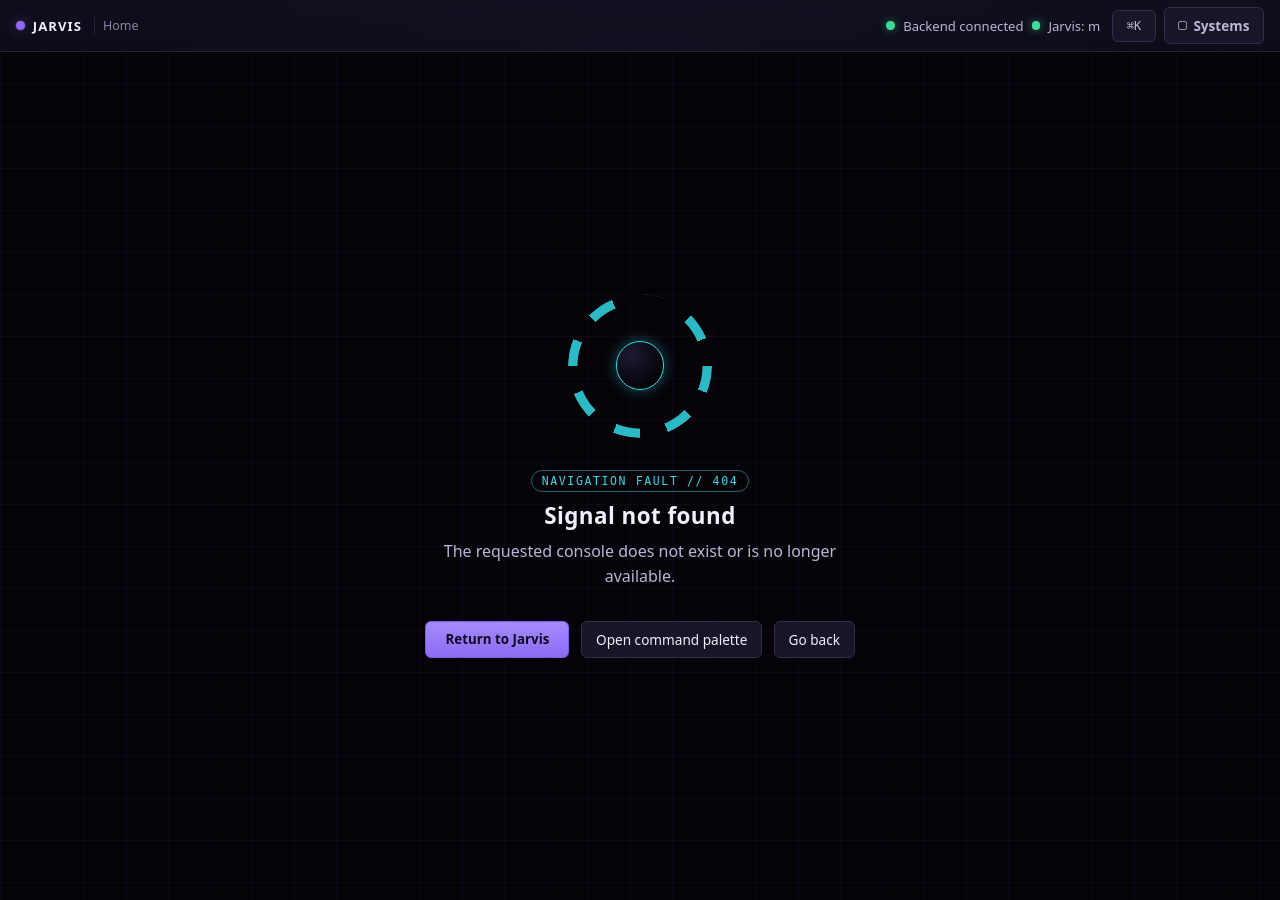
Unknown route (404) › returns to the real Home screen without a reload
The image size is (1280, 900).
Check: the heading "Signal not found" is shown, box [544,500,736,531]
Click the button "Return to Jarvis".
click(497, 640)  # box [425,621,569,658]
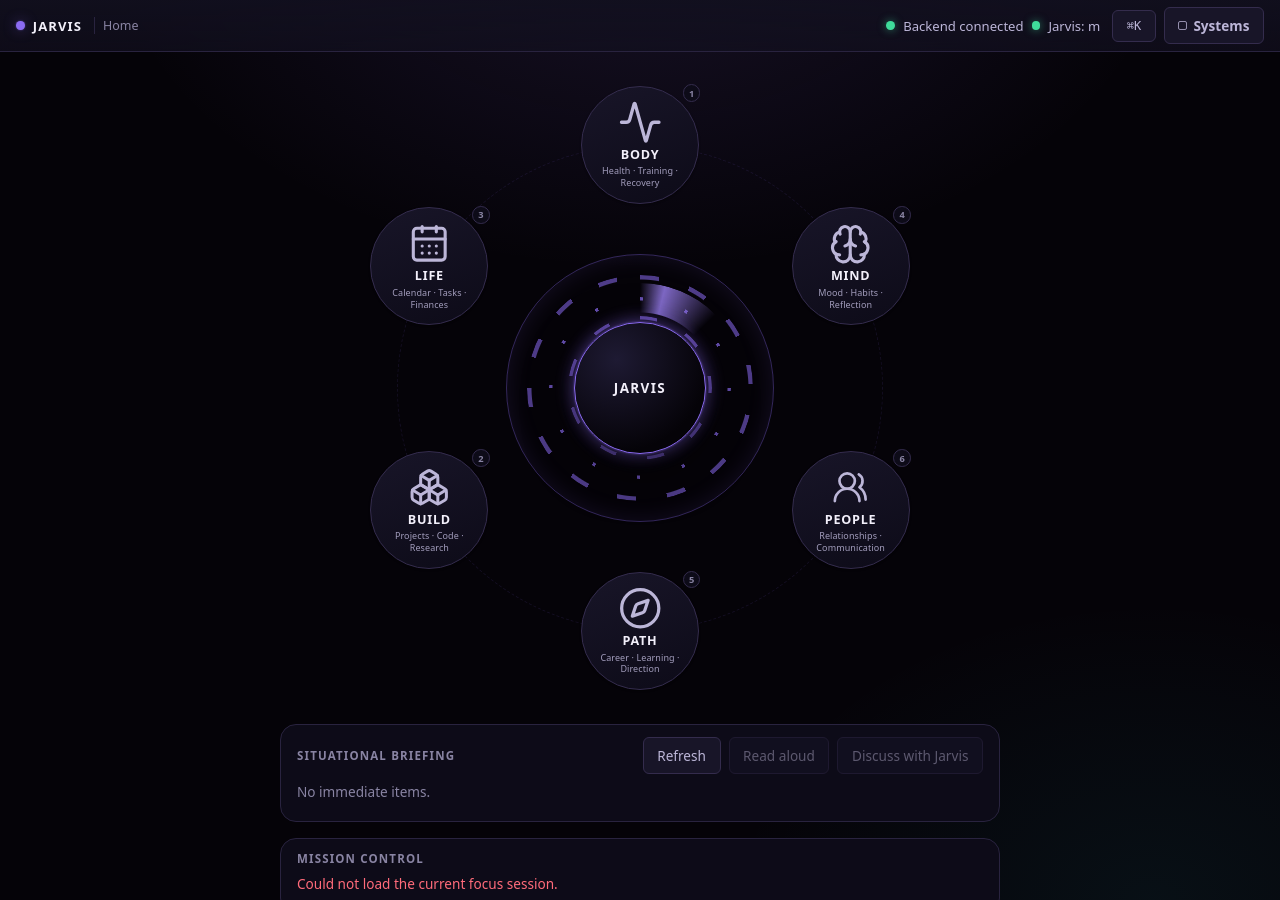
Check: the text "BODY" is shown, box [621,146,659,163]
